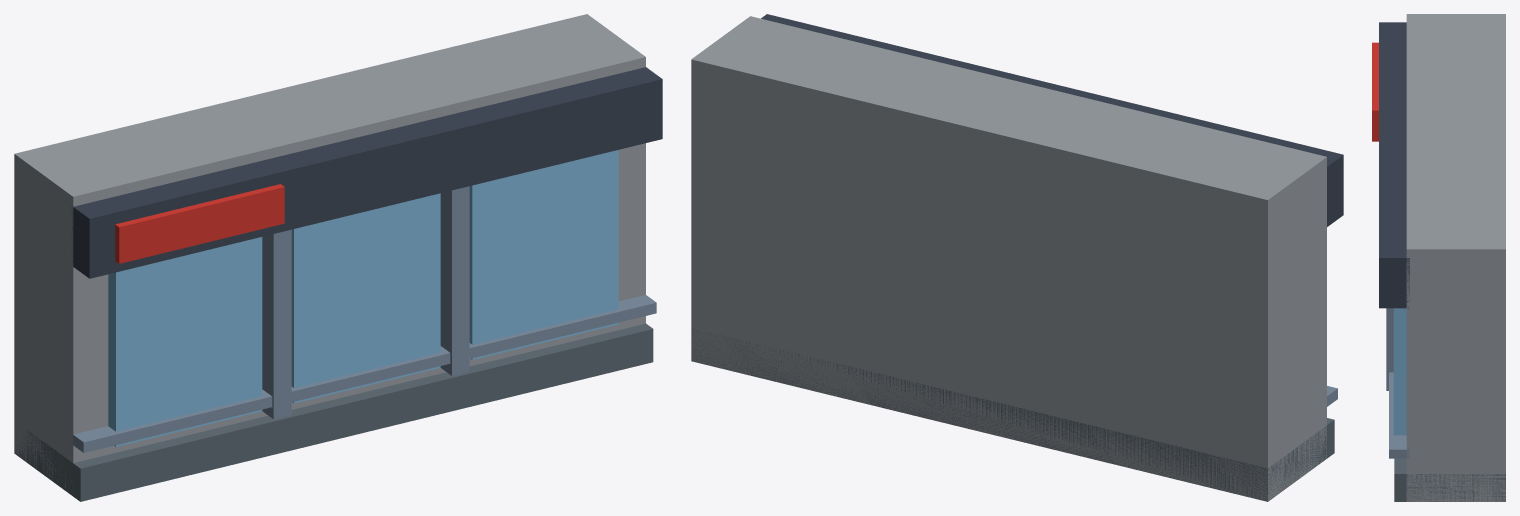
File: cittaVetroBaseB.glb
The picture shows the model from 3 angles, left to right: view 1: azimuth 30°, elevation 25°; view 2: azimuth 150°, elevation 25°; view 3: azimuth 270°, elevation 25°; orthographic projection. The views are drawn at different scales.
Parts seen in each view (by area): view 1: cittaVetroBaseB_glass, cittaVetroBaseB_cittaVetro, cittaVetroBaseB_steelDark, cittaVetroBaseB_tarmac, cittaVetroBaseB_steel, cittaVetroBaseB_red; view 2: cittaVetroBaseB_cittaVetro, cittaVetroBaseB_tarmac, cittaVetroBaseB_steelDark; view 3: cittaVetroBaseB_cittaVetro, cittaVetroBaseB_steelDark, cittaVetroBaseB_tarmac, cittaVetroBaseB_glass, cittaVetroBaseB_steel, cittaVetroBaseB_red.
Part boxes in pixels (<box>): cittaVetroBaseB_glass: <box>108,150,618,446</box>; cittaVetroBaseB_cittaVetro: <box>14,14,645,492</box>; cittaVetroBaseB_steelDark: <box>71,67,662,278</box>; cittaVetroBaseB_tarmac: <box>14,323,653,501</box>; cittaVetroBaseB_steel: <box>71,186,656,452</box>; cittaVetroBaseB_red: <box>115,184,284,263</box>; cittaVetroBaseB_cittaVetro: <box>691,16,1326,501</box>; cittaVetroBaseB_tarmac: <box>691,328,1334,501</box>; cittaVetroBaseB_steelDark: <box>761,14,1343,226</box>; cittaVetroBaseB_cittaVetro: <box>1406,14,1505,501</box>; cittaVetroBaseB_steelDark: <box>1379,22,1409,308</box>; cittaVetroBaseB_tarmac: <box>1394,458,1505,501</box>; cittaVetroBaseB_glass: <box>1393,308,1406,435</box>; cittaVetroBaseB_steel: <box>1386,308,1409,458</box>; cittaVetroBaseB_red: <box>1372,42,1378,141</box>.
Size of the model in its own units: 9 by 4.5 by 2.16.
